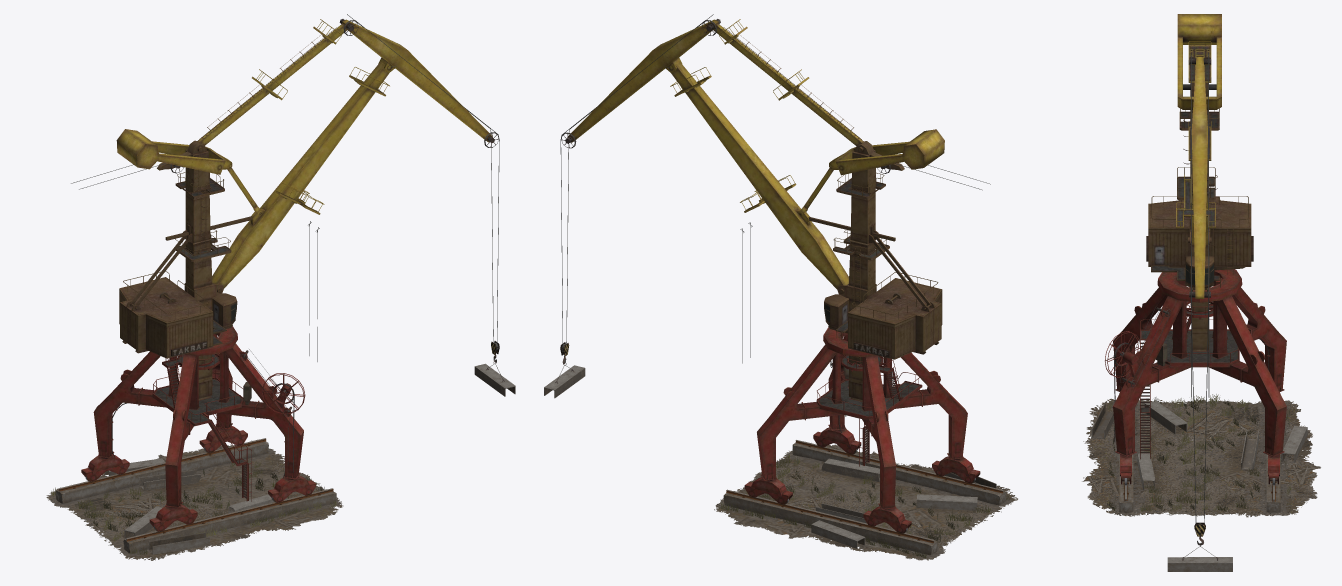
File: crane-sokol.glb
The picture shows the model from 3 angles, left to right: view 1: azimuth 30°, elevation 25°; view 2: azimuth 150°, elevation 25°; view 3: azimuth 270°, elevation 25°; orthographic projection. The views are drawn at different scales.
Visible parts, largest first — view 1: PortCrane; view 2: PortCrane; view 3: PortCrane.
Boxes of the visible parts, x1=… form: PortCrane: x1=46, y1=14, x2=515, y2=560; PortCrane: x1=544, y1=14, x2=1017, y2=560; PortCrane: x1=1082, y1=14, x2=1320, y2=571.
Size of the model in its own units: 42.95 by 42.3 by 19.72.
Materials: 3 (3 with a texture image).
